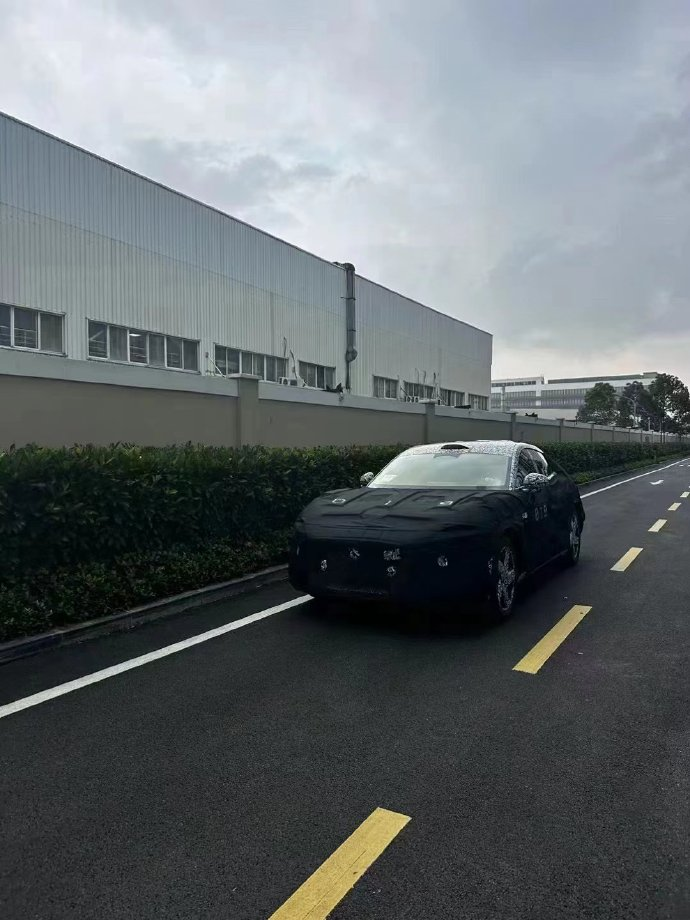other: (299, 427, 581, 627)
